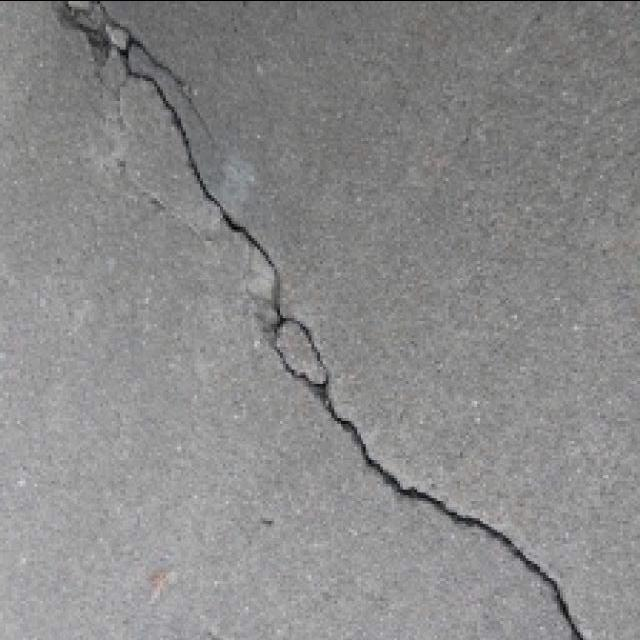SurfaceCrack: (30, 0, 616, 640)
